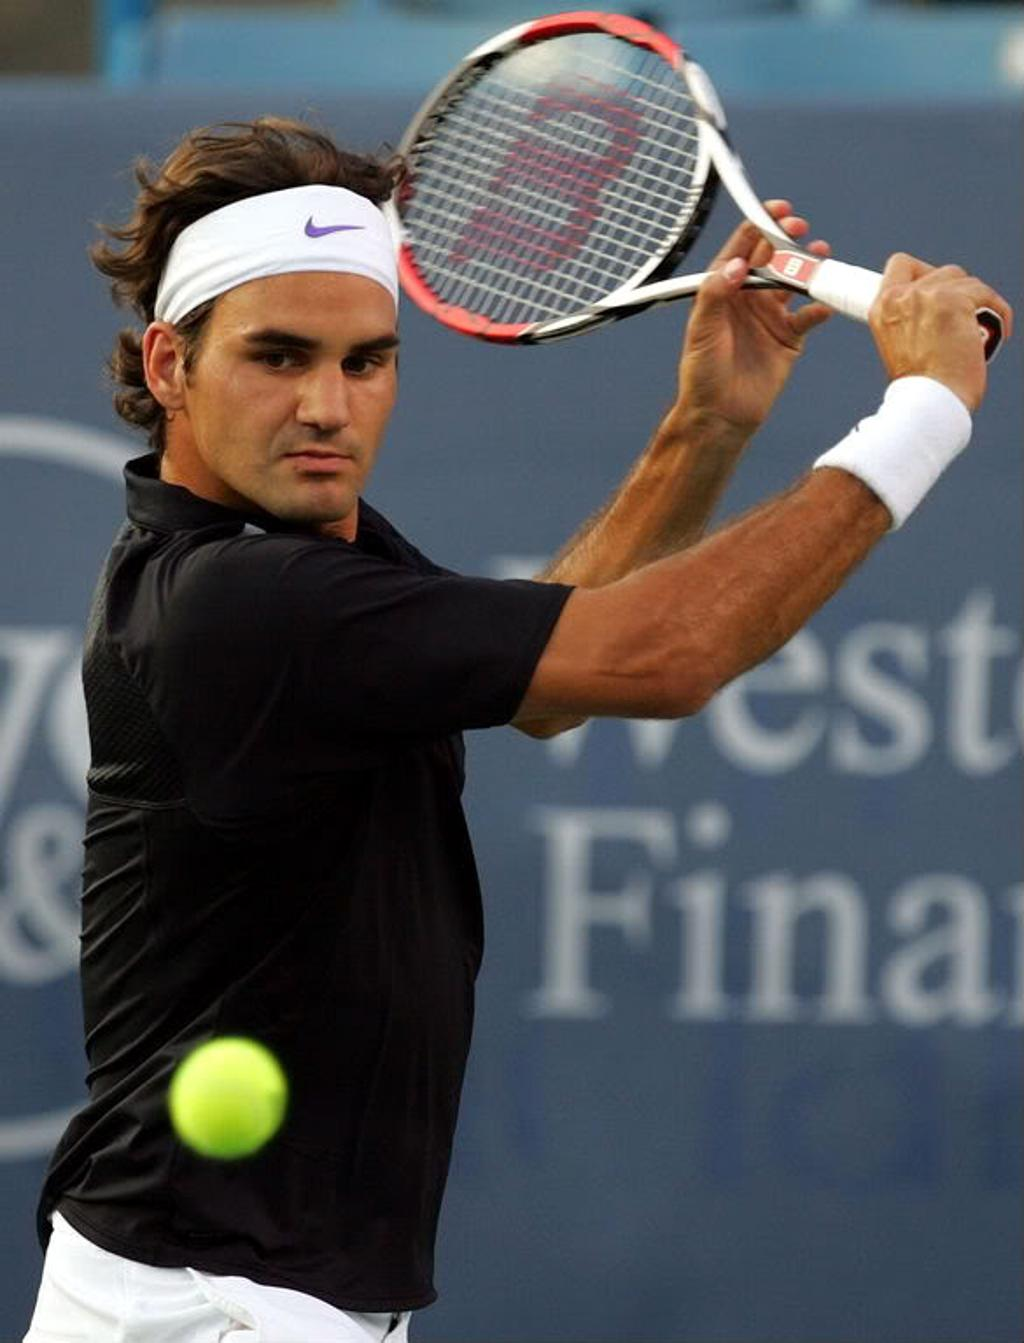face: (191, 254, 398, 521)
